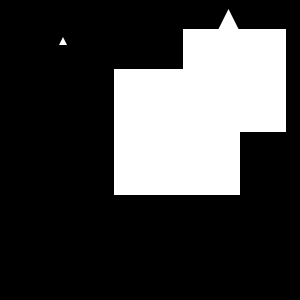circle: (114, 69, 240, 195), (183, 29, 286, 132)
triangle: (187, 9, 270, 92), (59, 37, 67, 45)
